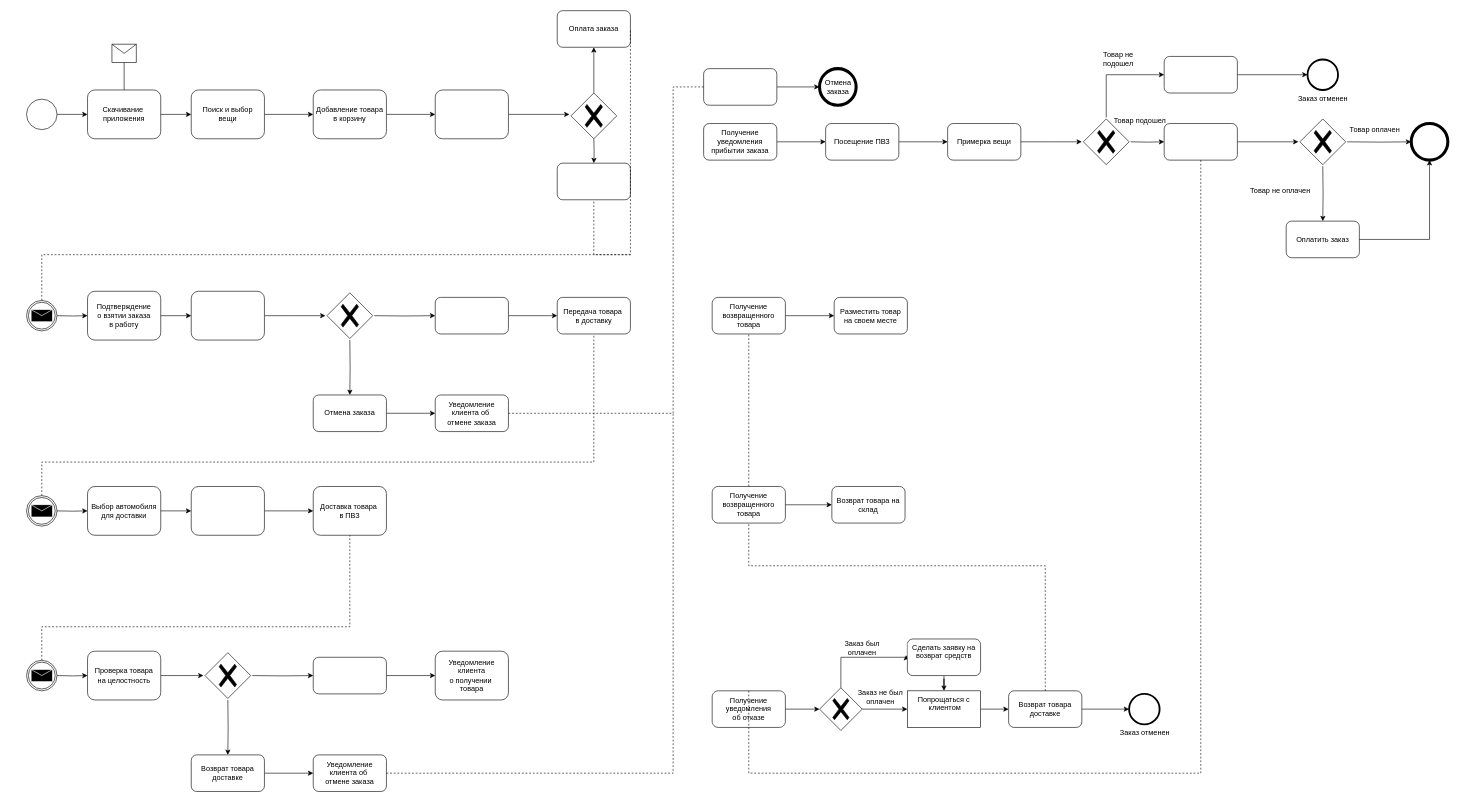
Some shapes in this 1460 by 802 pixel diagram are drawn without their labels. The centre of each missing label's shape, as x and y in pixels:
Выбор способа оплаты: the point at 471,114
Желание купить вещь онлайн: the point at 41,114
Загрузка товара в автомобиль: the point at 227,510
Заказ получен: the point at 1429,141
Передача в пункт сборки заказа: the point at 471,315
Подтверждение о получении: the point at 349,675
Подтверждение оплаты при получении: the point at 593,181
Поиск товара на складе: the point at 227,315
Получение заказа на сборку: the point at 41,315
Получение товара на доставку: the point at 41,510
Получение товара на ПВЗ: the point at 41,675
Получение уведомления об отмене заказа: the point at 740,86
Сообщить о нежелании забирать товар: the point at 1200,74
Сообщить сотруднику о желании забрать вещь: the point at 1200,141
